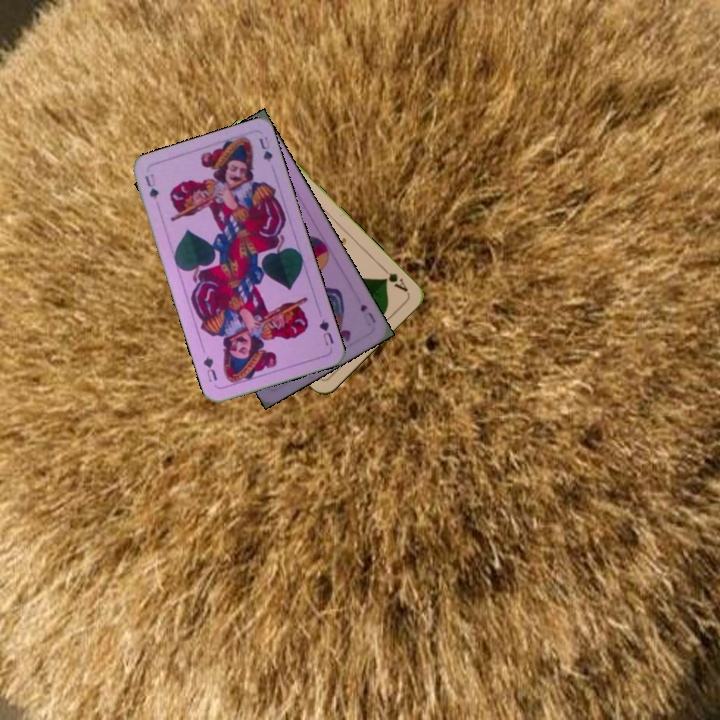GA: (377, 262, 411, 295)
GU: (315, 314, 336, 348), (141, 169, 161, 202)
SU: (356, 300, 379, 326)
